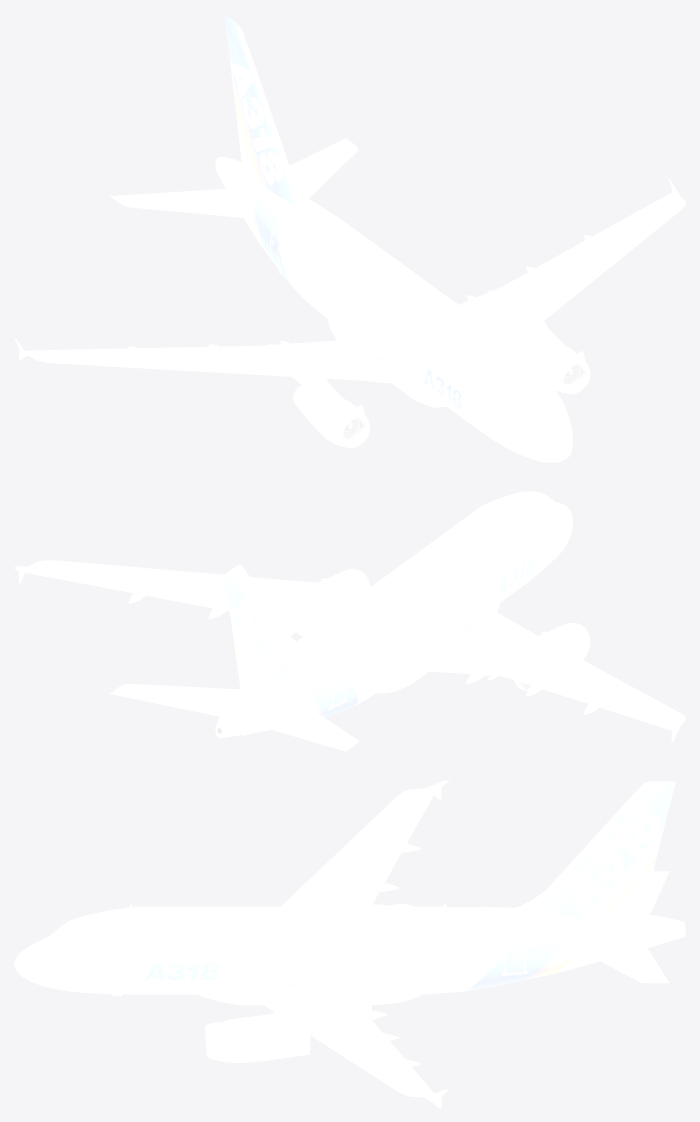
File: Airbus_A318.glb
3 renders of one model, top to bottom at view 1: azimuth 30°, elevation 25°; view 2: azimuth 150°, elevation 25°; view 3: azimuth 270°, elevation 25°, orthographic. The views are drawn at different scales.
Parts seen in each view (by area): view 1: node_32, node_28, custom_vis_FUEL_TANK_CENTER2_CAPACITY_03_mcx_VC, custom_vis_FUEL_TANK_CENTER3_CAPACITY_02_mcx_VC, node_30, node_29, custom_vis_LIGHT_LANDING_01_mcx_VC_1, node_33; view 2: node_32, node_28, custom_vis_FUEL_TANK_CENTER2_CAPACITY_03_mcx_VC, custom_vis_FUEL_TANK_CENTER3_CAPACITY_02_mcx_VC, node_29, node_30, node_33; view 3: node_32, custom_vis_FUEL_TANK_CENTER2_CAPACITY_03_mcx_VC, node_28, custom_vis_FUEL_TANK_CENTER3_CAPACITY_02_mcx_VC, custom_vis_LIGHT_LANDING_01_mcx_VC_1, node_29, node_30, node_33.
Boxes of the visible parts, left/top/right/bottom form: node_32: left=14, top=138, right=680, bottom=462; node_28: left=25, top=191, right=685, bottom=378; custom_vis_FUEL_TANK_CENTER2_CAPACITY_03_mcx_VC: left=119, top=14, right=350, bottom=212; custom_vis_FUEL_TANK_CENTER3_CAPACITY_02_mcx_VC: left=257, top=221, right=485, bottom=403; node_30: left=52, top=357, right=309, bottom=377; node_29: left=539, top=205, right=680, bottom=319; custom_vis_LIGHT_LANDING_01_mcx_VC_1: left=392, top=378, right=466, bottom=412; node_33: left=278, top=215, right=508, bottom=355; node_32: left=14, top=491, right=680, bottom=751; node_28: left=21, top=560, right=685, bottom=730; custom_vis_FUEL_TANK_CENTER2_CAPACITY_03_mcx_VC: left=119, top=564, right=350, bottom=745; custom_vis_FUEL_TANK_CENTER3_CAPACITY_02_mcx_VC: left=312, top=526, right=551, bottom=702; node_29: left=52, top=560, right=307, bottom=583; node_30: left=539, top=639, right=679, bottom=714; node_33: left=243, top=496, right=507, bottom=736; node_32: left=14, top=780, right=685, bottom=1107; custom_vis_FUEL_TANK_CENTER2_CAPACITY_03_mcx_VC: left=506, top=781, right=675, bottom=980; node_28: left=250, top=788, right=437, bottom=1097; custom_vis_FUEL_TANK_CENTER3_CAPACITY_02_mcx_VC: left=110, top=944, right=557, bottom=964; custom_vis_LIGHT_LANDING_01_mcx_VC_1: left=136, top=968, right=263, bottom=1005; node_29: left=282, top=1013, right=407, bottom=1091; node_30: left=283, top=794, right=407, bottom=904; node_33: left=111, top=903, right=486, bottom=997.
Size of the model in its own units: 34.26 by 11.76 by 31.45.
Materials: 5 (4 with a texture image).
